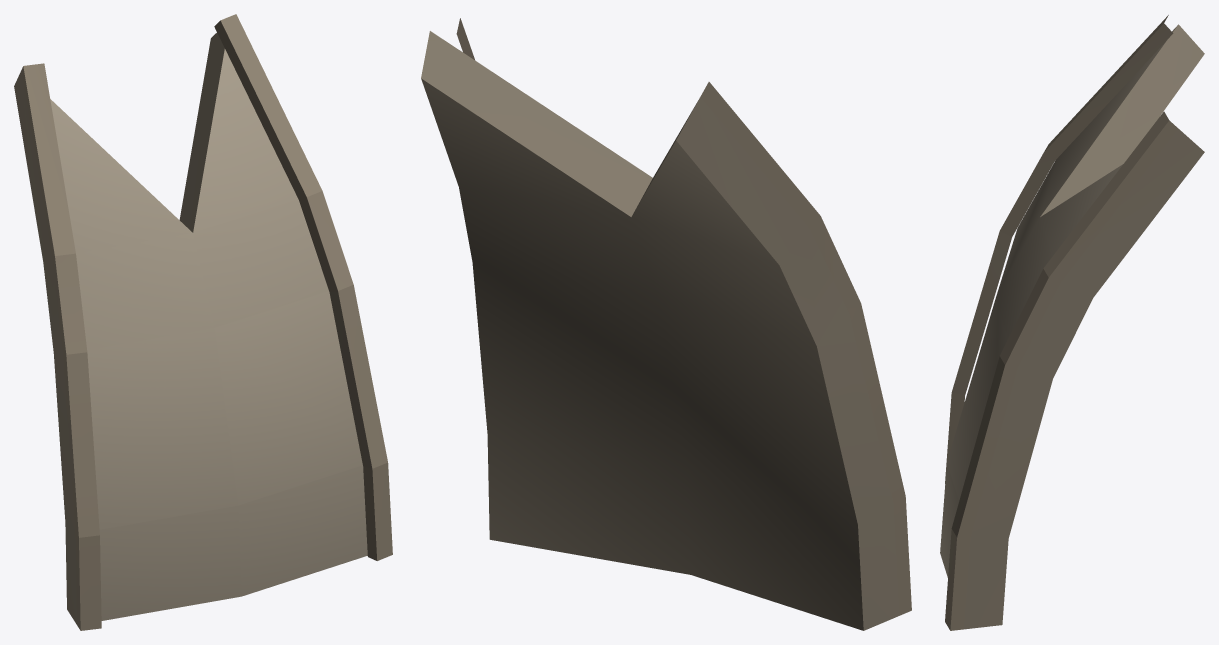
The model's file is dome.panel_12_broken.stone.glb.
3 views of the same model, side by side, from view 1: azimuth 30°, elevation 25°; view 2: azimuth 150°, elevation 25°; view 3: azimuth 270°, elevation 25° (orthographic). The views are drawn at different scales.
Visible parts, largest first — view 1: dome_panel_12_broken_stone; view 2: dome_panel_12_broken_stone; view 3: dome_panel_12_broken_stone.
Part boxes in pixels (x1=…): dome_panel_12_broken_stone: x1=14, y1=14, x2=392, y2=630; dome_panel_12_broken_stone: x1=421, y1=18, x2=911, y2=630; dome_panel_12_broken_stone: x1=940, y1=15, x2=1204, y2=630.
Size of what is drawn, in the model's own units: 1.85 by 2.68 by 1.33.
